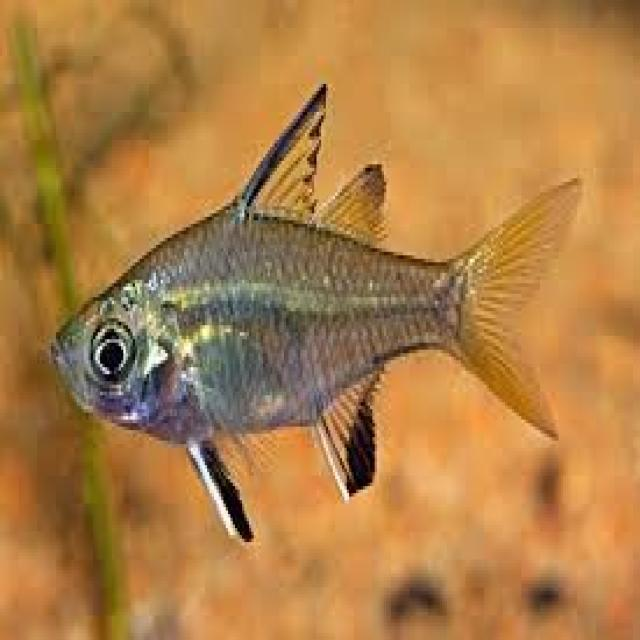Glass-Perchlet: (51, 75, 613, 606)
